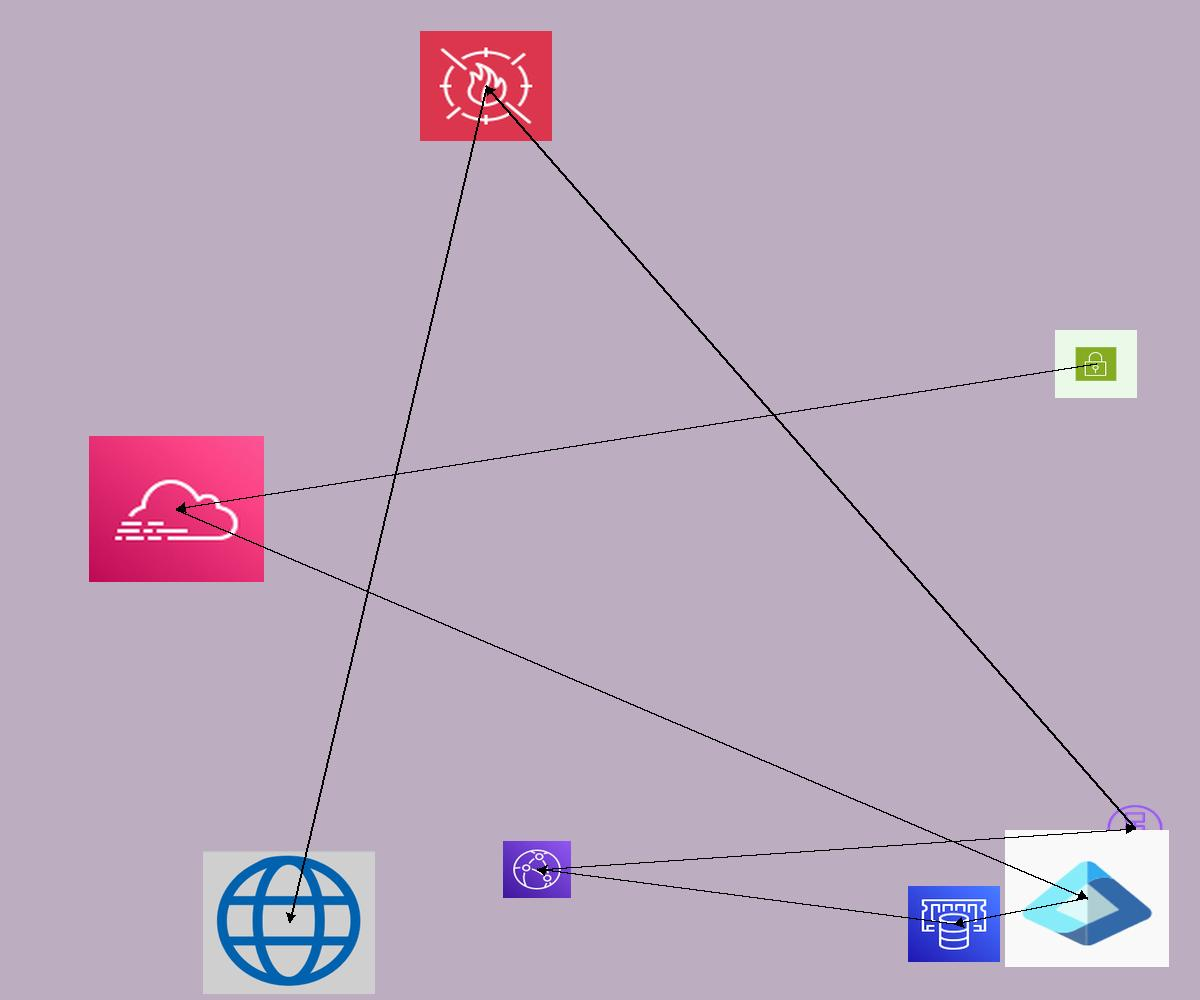AWS-CloudFront: (503, 841, 571, 898)
AWS-CloudTrail: (89, 436, 264, 582)
AWS-ElastiCache: (908, 886, 1000, 962)
AWS-Public-subnet: (1055, 330, 1137, 398)
AWS-Res_Elastic-Load-Balancing_Application-Load-Balancer: (1105, 803, 1165, 853)
AWS-WAF: (420, 31, 552, 141)
Azure_http: (203, 851, 375, 994)
Azure_microsoft_entra: (1005, 830, 1169, 967)
